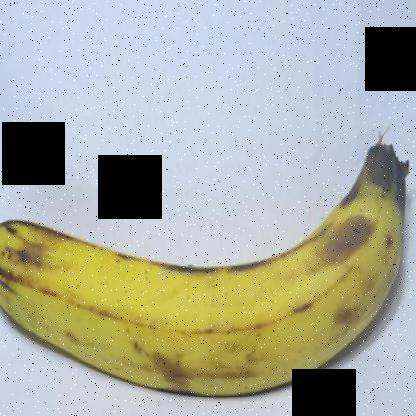ripe: (1, 126, 414, 415)
